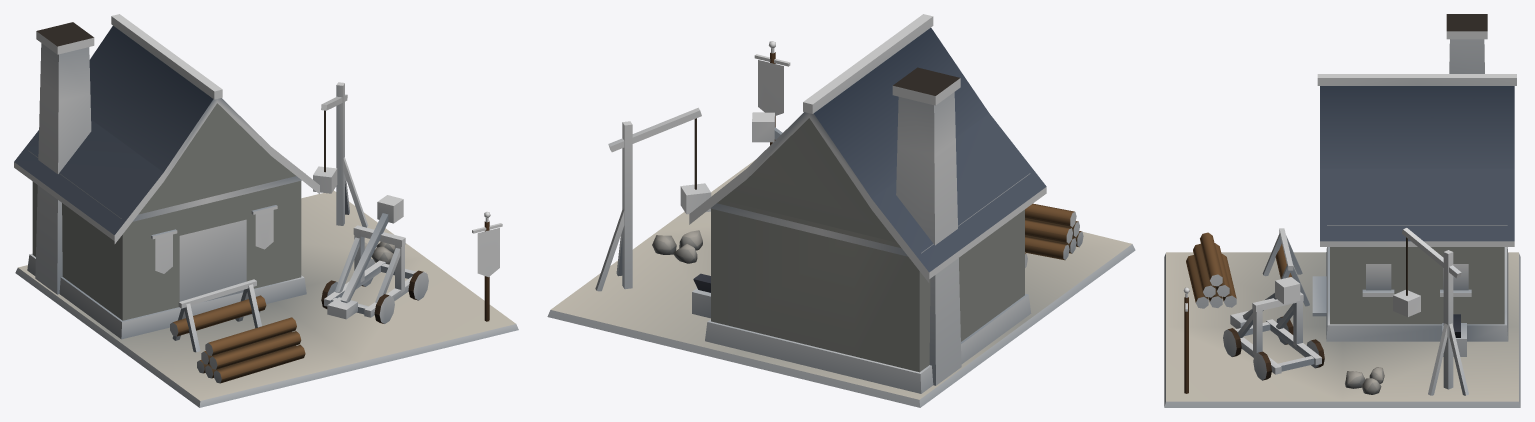
File: siege_workshop_t4.glb
3 renders of one model, left to right at view 1: azimuth 30°, elevation 25°; view 2: azimuth 150°, elevation 25°; view 3: azimuth 270°, elevation 25°, orthographic. The views are drawn at different scales.
Visible parts, largest first — view 1: siege_workshop_t4; view 2: siege_workshop_t4; view 3: siege_workshop_t4.
Part boxes in pixels (x1,y1,x2,y2): siege_workshop_t4: (14,14,518,407); siege_workshop_t4: (547,14,1135,407); siege_workshop_t4: (1164,14,1520,407).
Size of the model in its own units: 2.9 by 2.17 by 2.86.
